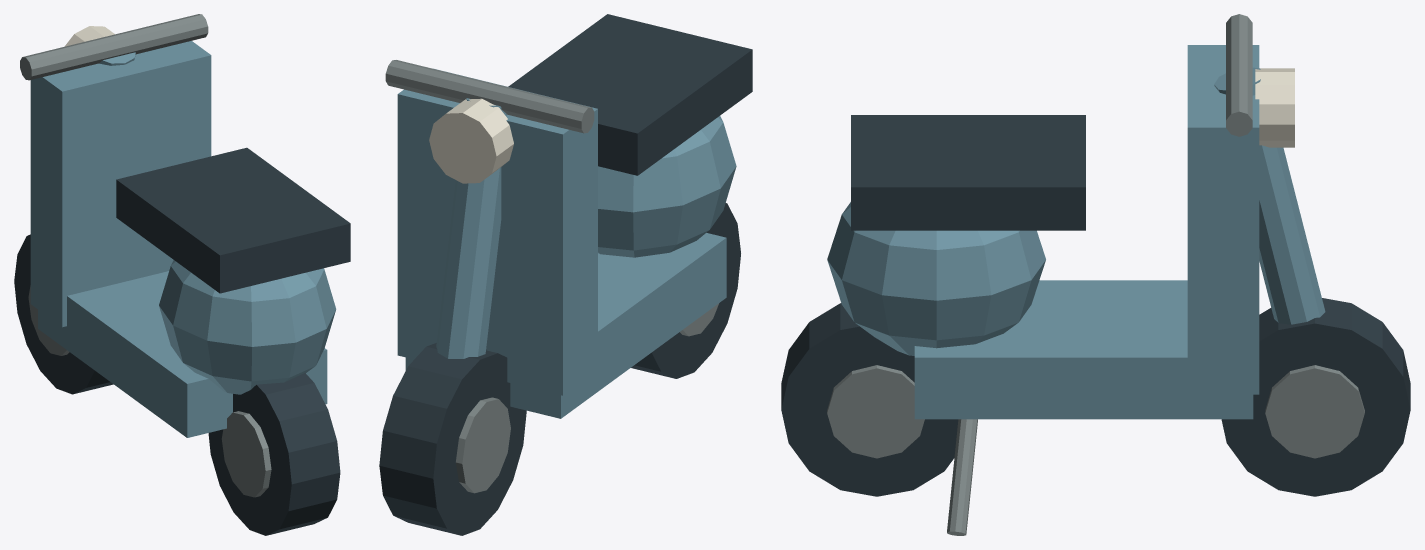
File: scooter.glb
3 views of the same model, side by side, from view 1: azimuth 30°, elevation 25°; view 2: azimuth 150°, elevation 25°; view 3: azimuth 270°, elevation 25° (orthographic). The views are drawn at different scales.
Parts seen in each view (by area): view 1: scooter; view 2: scooter; view 3: scooter.
Boxes of the visible parts, x1=… form: scooter: x1=14, y1=14, x2=350, y2=535; scooter: x1=379, y1=14, x2=752, y2=535; scooter: x1=781, y1=14, x2=1410, y2=535.
Size of the model in its own units: 0.6096 by 1.18 by 1.58.
